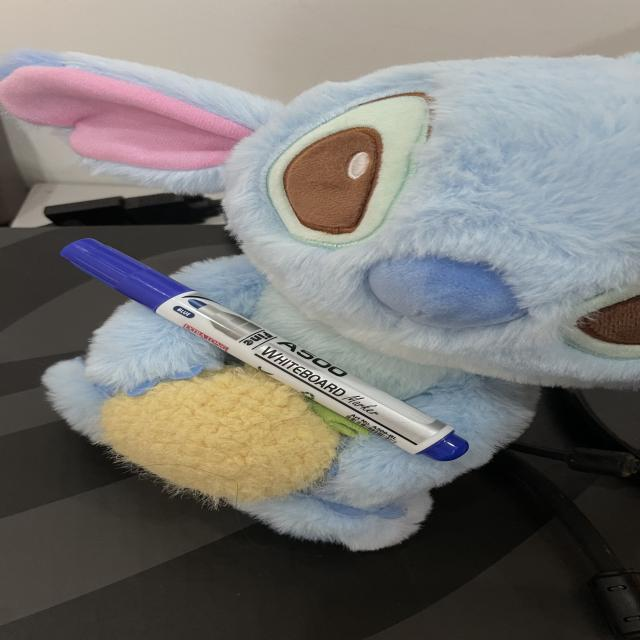marker: (61, 239, 468, 461)
